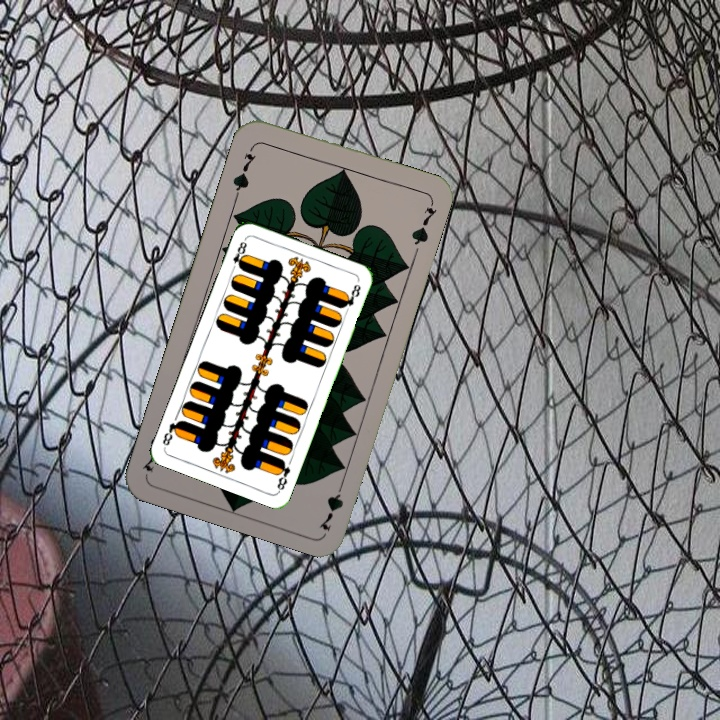E8: (228, 235, 249, 274), (273, 456, 293, 494)
G7: (315, 475, 348, 533), (228, 149, 259, 199)
